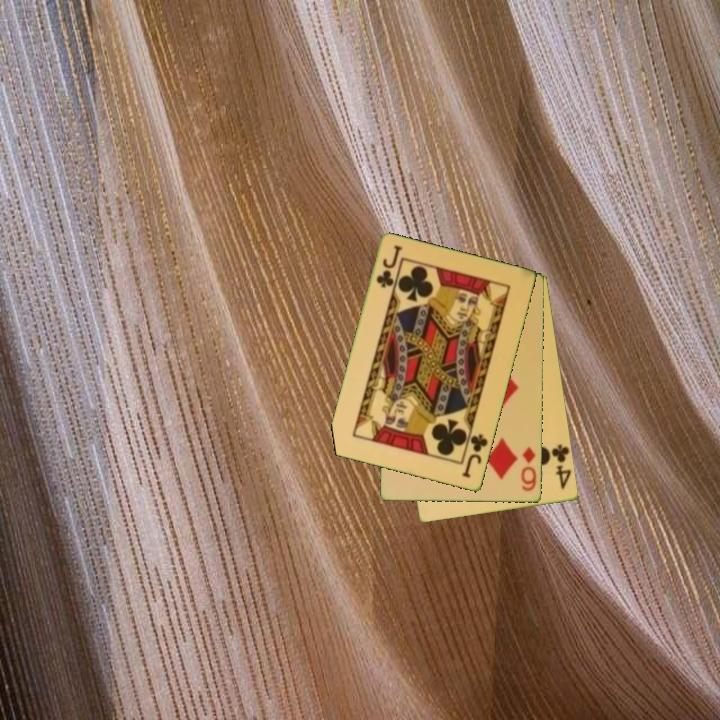4c: (548, 441, 574, 493)
6d: (517, 444, 540, 494)
Jc: (459, 431, 491, 481), (373, 242, 404, 291)
